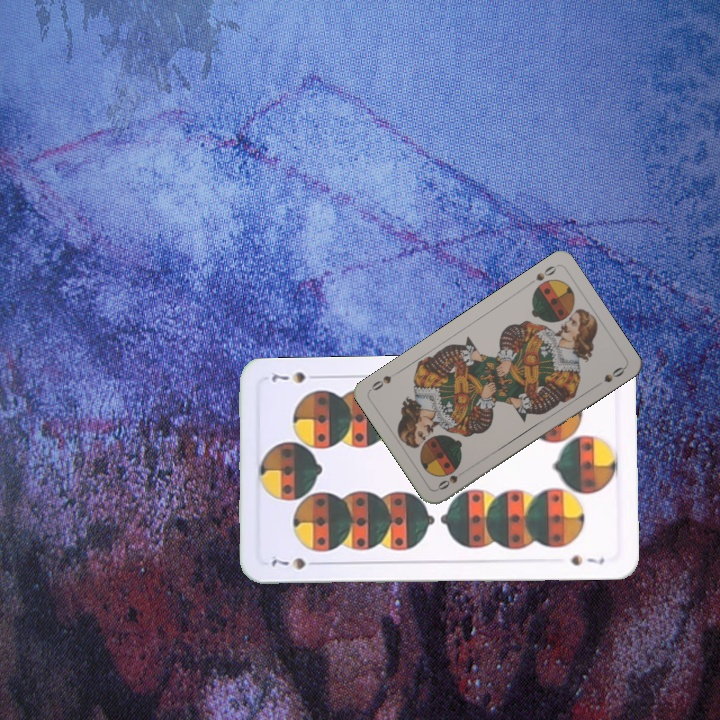S7: (267, 553, 323, 572)
SO: (433, 466, 469, 493), (532, 261, 559, 284)
